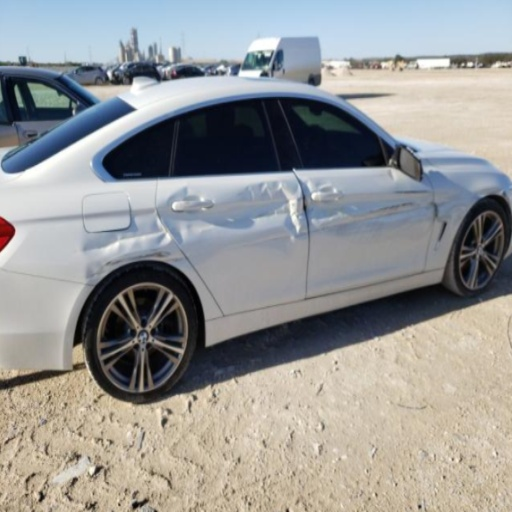dent: (158, 179, 306, 258), (302, 179, 428, 236), (84, 218, 173, 278), (434, 191, 481, 219), (388, 167, 395, 183)
scratch: (107, 251, 170, 267), (359, 201, 417, 218), (391, 189, 430, 196)
